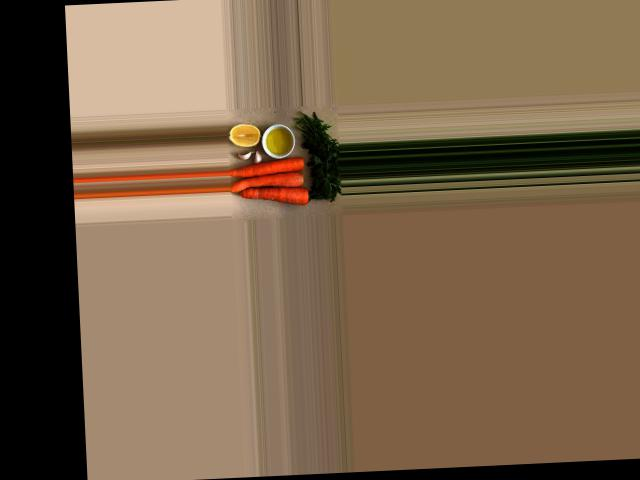carrot: (228, 156, 308, 180)
